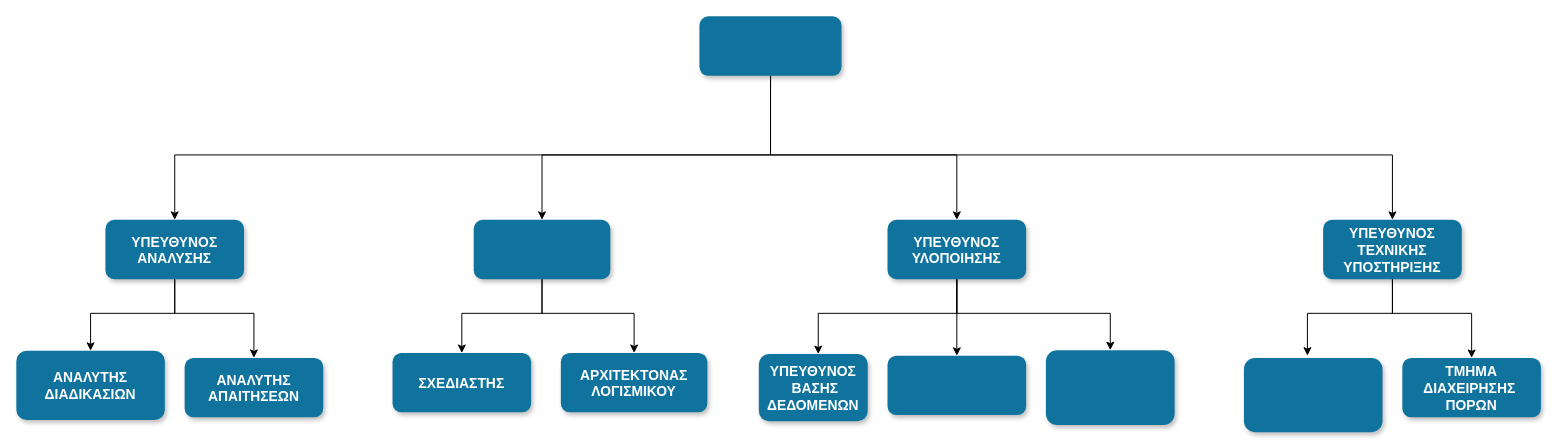
This 1557x448 diagram has some shape labels left out. The shapes that lost their labels are listed below. From the top down, each one's centre as x and y in pixels, then its label:
At point (771, 47): "ΥΠΕΥΘΥΝΟΣ ΕΡΓΟΥ".
At point (542, 250): "ΥΠΕΥΘΥΝΟΣ ΣΧΕΔΙΑΣΗΣ".
At point (957, 386): "ΠΡΟΓΡΑΜΜΑΤΙΣΤΗΣ".
At point (1110, 388): "ΥΠΕΥΘΥΝΟΣ ΠΡΟΣΤΑΣΙΑΣ ΠΡΟΣΩΠΙΚΩΝ ΔΕΔΟΜΕΝΩΝ".
At point (1313, 396): "ΤΜΗΜΑ ΕΚΠΑΙΔΕΥΣΗΣ ΑΝΘΡΩΠΙΝΟΥ ΔΥΝΑΜΙΚΟΥ".
